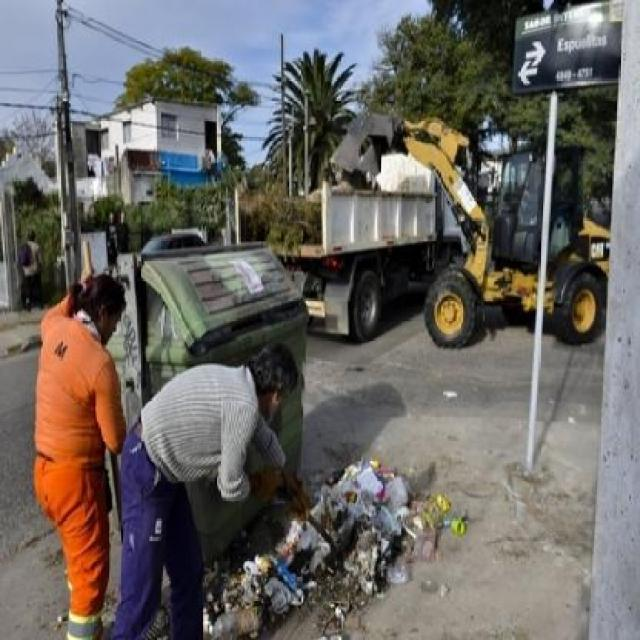garbage: (309, 459, 444, 588), (222, 540, 320, 611)
